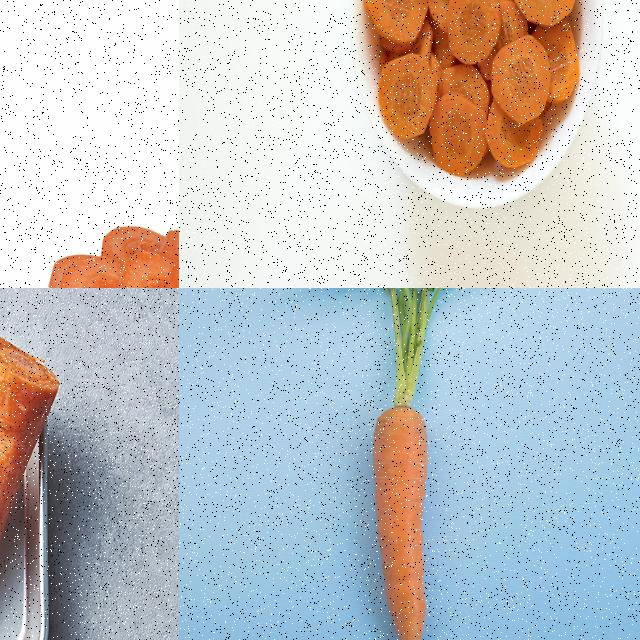carrot: (364, 0, 591, 175), (362, 395, 444, 639), (0, 335, 61, 625), (40, 211, 178, 287)
